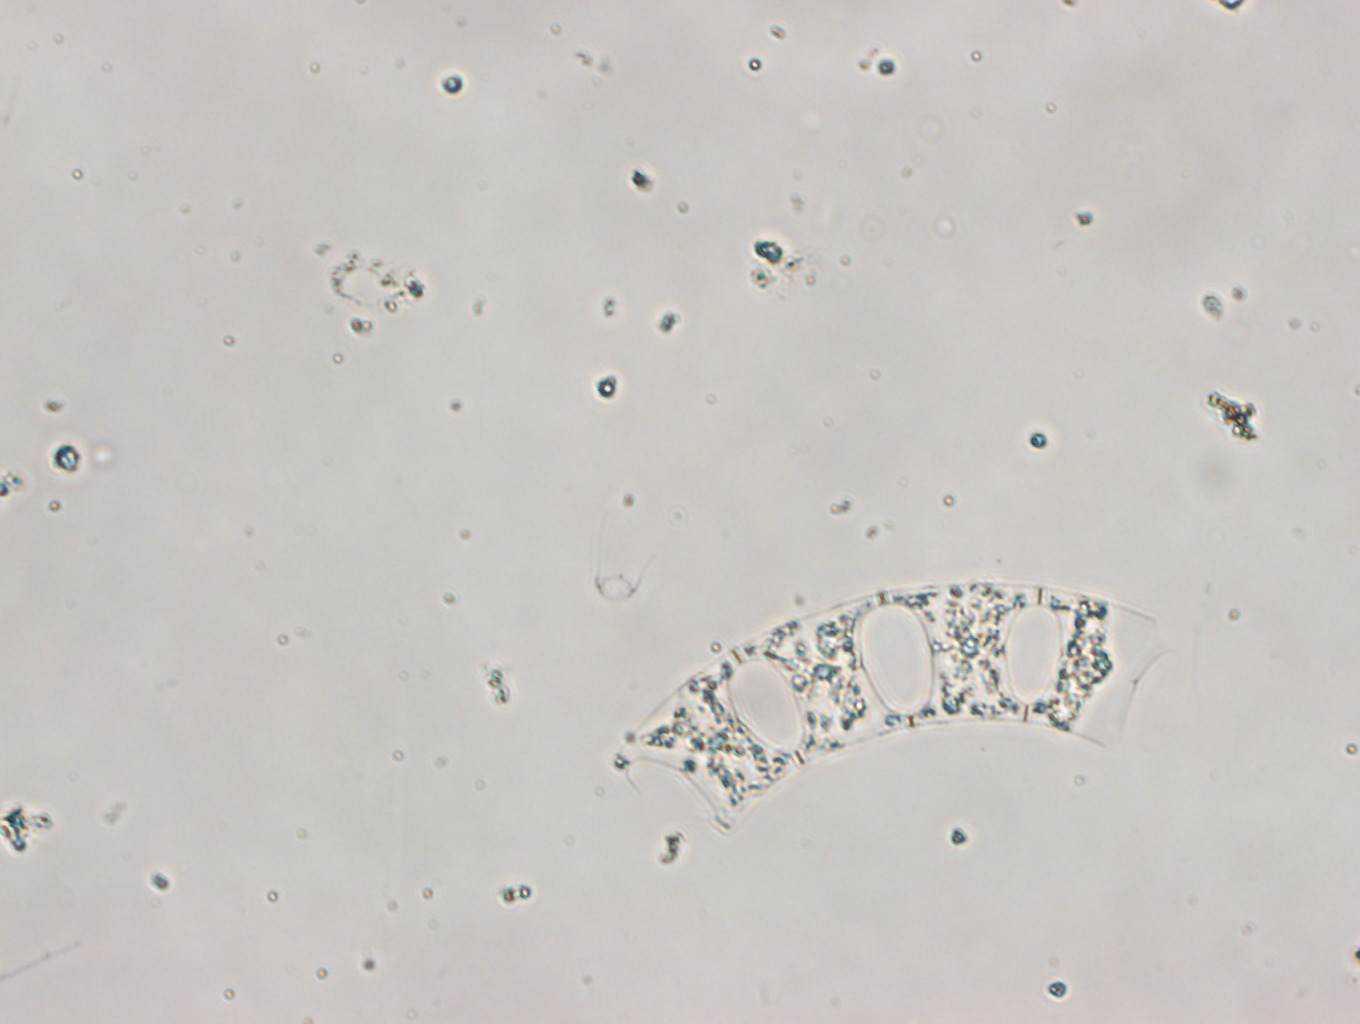eucampia: (612, 561, 1176, 840)
